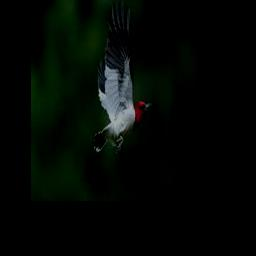Woodpecker: (91, 0, 152, 153)
